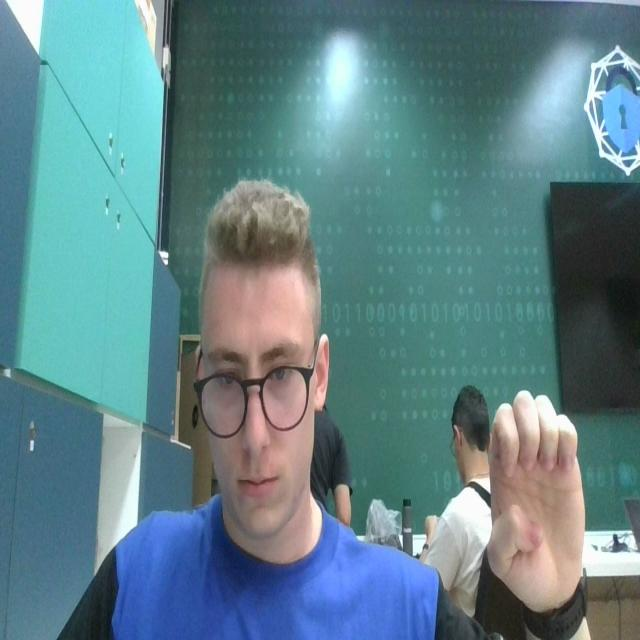E: (483, 388, 588, 598)
